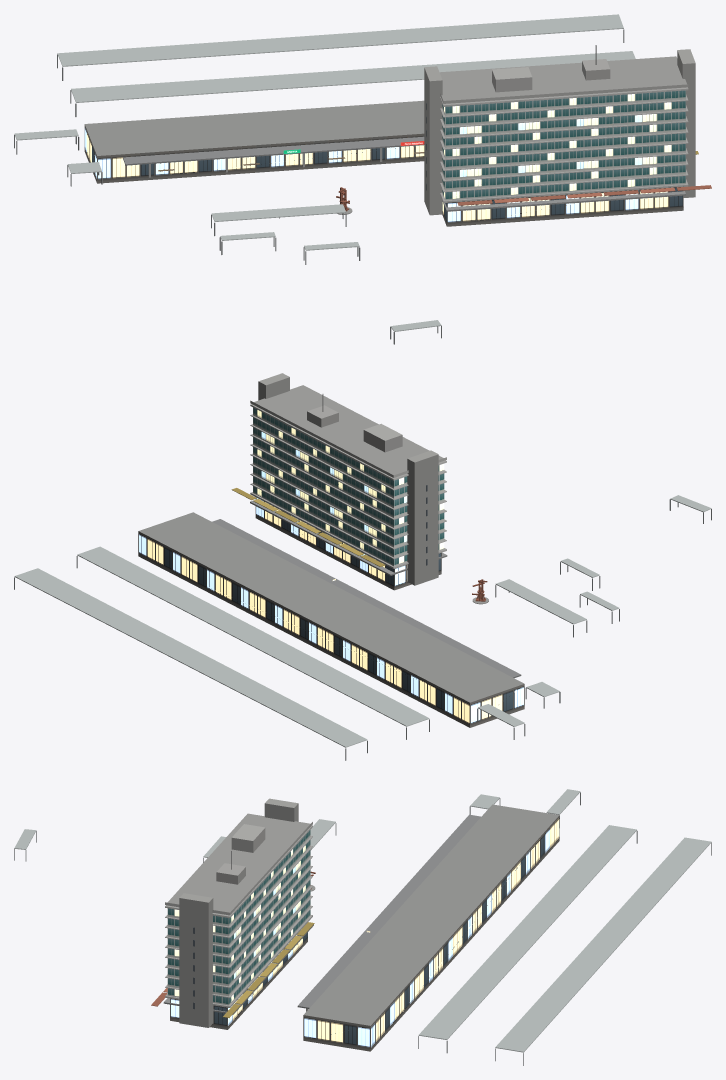
The model's file is k93_altstetten.glb.
The picture shows the model from 3 angles, top to bottom: view 1: azimuth 30°, elevation 25°; view 2: azimuth 150°, elevation 25°; view 3: azimuth 270°, elevation 25°; orthographic projection. The views are drawn at different scales.
Bounding box in the file's own units: 163 × 41.6 × 182.
8 materials, 6 textured.
